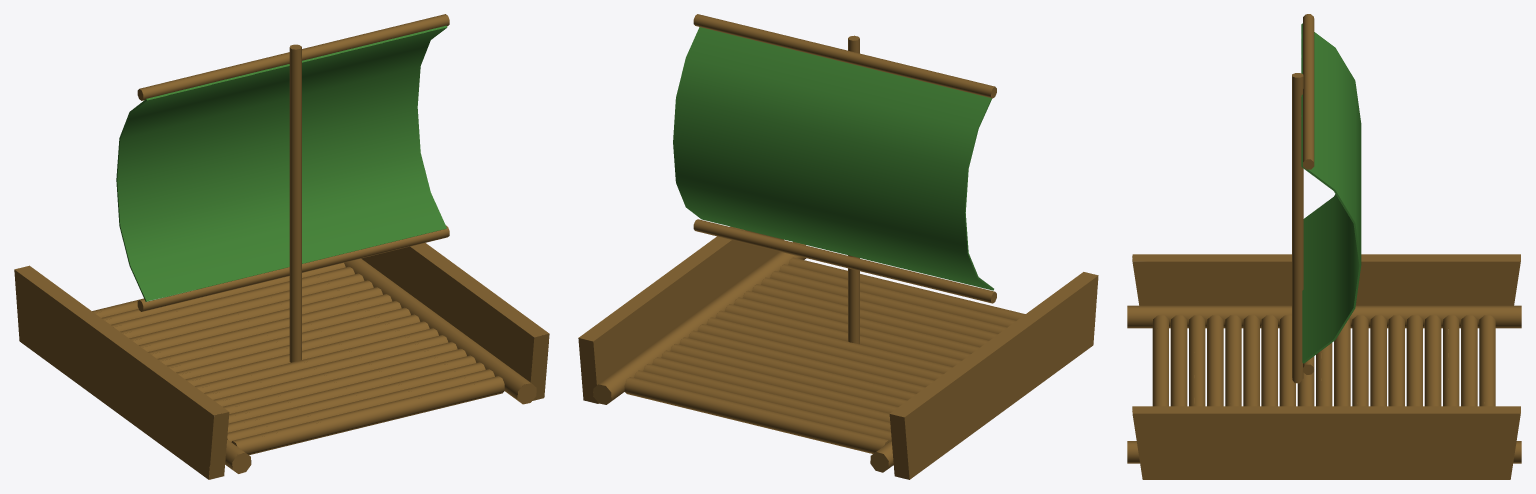
The picture shows the model from 3 angles, left to right: view 1: azimuth 30°, elevation 25°; view 2: azimuth 150°, elevation 25°; view 3: azimuth 270°, elevation 25°; orthographic projection. The views are drawn at different scales.
Visible parts, largest first — view 1: Builder_Leaf, Builder_Wood, Builder_Wood 005, Builder_Wood 4, Buuilder_Woodn3, Builder_Wood 2, Builder_Wood 003; view 2: Builder_Leaf, Builder_Wood, Builder_Wood 005, Builder_Wood 4, Builder_Wood 2, Builder_Wood 003, Buuilder_Woodn3; view 3: Builder_Wood 4, Builder_Wood, Builder_Wood 005, Builder_Leaf, Buuilder_Woodn3, Builder_Wood 2.
Boxes of the visible parts, x1,y1,x2,y2 form: Builder_Leaf: (116, 25, 447, 301); Builder_Wood: (92, 263, 504, 455); Builder_Wood 005: (14, 265, 251, 479); Builder_Wood 4: (344, 243, 549, 404); Buuilder_Woodn3: (289, 44, 301, 362); Builder_Wood 2: (137, 14, 449, 100); Builder_Wood 003: (137, 225, 449, 311); Builder_Leaf: (673, 27, 993, 290); Builder_Wood: (624, 257, 1025, 453); Builder_Wood 005: (870, 272, 1098, 479); Builder_Wood 4: (578, 226, 806, 404); Builder_Wood 2: (693, 14, 996, 98); Builder_Wood 003: (693, 219, 996, 303); Buuilder_Woodn3: (848, 35, 859, 344); Builder_Wood 4: (1127, 406, 1521, 479); Builder_Wood: (1152, 315, 1495, 406); Builder_Wood 005: (1127, 254, 1521, 328); Builder_Leaf: (1301, 23, 1361, 363); Buuilder_Woodn3: (1292, 73, 1303, 383); Builder_Wood 2: (1303, 14, 1314, 169).
Bounding box in the file's own units: 74.47 × 77.96 × 70.77.
Materials: 3 (3 with a texture image).
